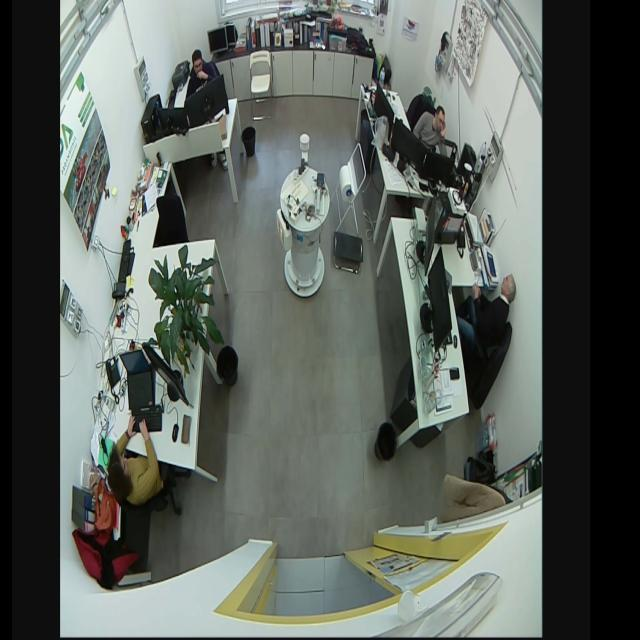Persona: (104, 412, 163, 513), (444, 276, 490, 378), (408, 101, 444, 158), (186, 41, 220, 101)
